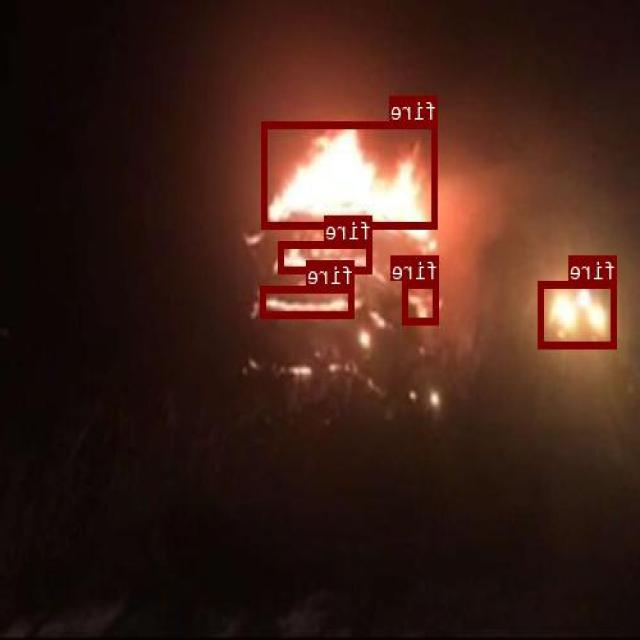fire: (263, 121, 439, 228), (540, 281, 618, 347), (279, 240, 373, 272), (262, 286, 355, 318), (403, 279, 440, 324)
